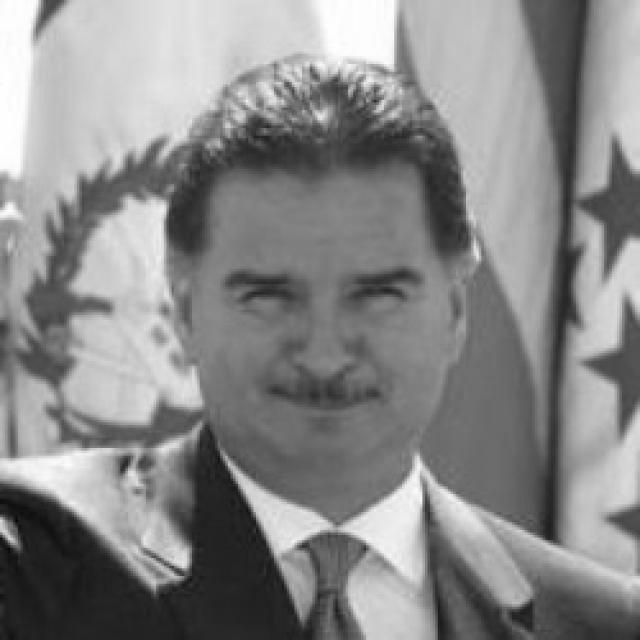real: (163, 64, 475, 465), (229, 270, 417, 320)
